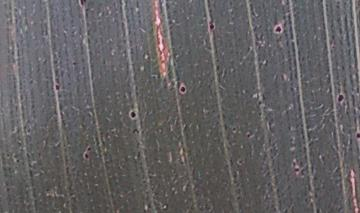tarspot: (81, 144, 96, 163), (271, 19, 287, 36), (335, 87, 347, 106), (177, 78, 188, 97), (127, 107, 139, 123), (292, 158, 301, 178), (206, 17, 217, 33), (76, 1, 89, 12), (52, 80, 62, 94), (244, 129, 254, 141), (130, 126, 140, 137), (229, 124, 239, 135), (255, 99, 266, 109), (354, 126, 360, 143), (235, 157, 245, 167), (256, 110, 265, 119), (70, 59, 78, 69), (4, 151, 12, 160), (12, 157, 21, 164)
